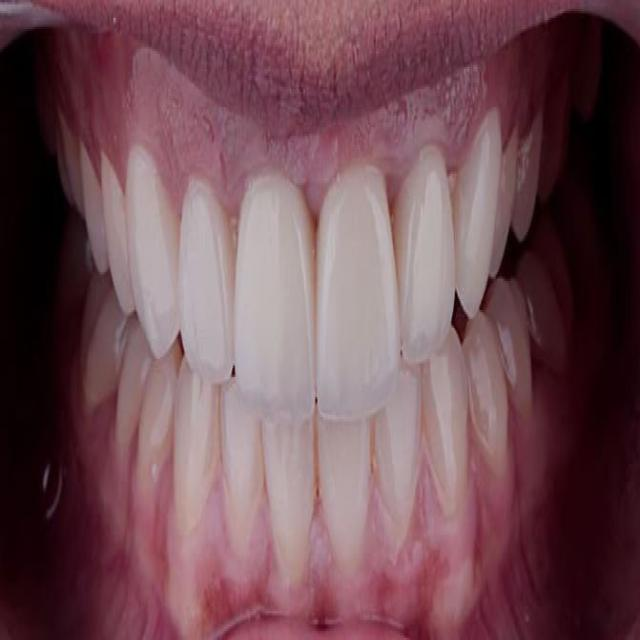1st Molar: (517, 219, 573, 366), (81, 274, 123, 410), (542, 67, 570, 195), (56, 109, 83, 205)
1st Premolar: (464, 317, 509, 468), (99, 161, 136, 317), (139, 348, 180, 479), (492, 134, 521, 281)
2nd Molar: (554, 176, 597, 255), (574, 18, 601, 113), (60, 210, 90, 290), (35, 71, 57, 149)
2nd Premolar: (485, 279, 534, 419), (114, 314, 147, 455), (515, 118, 544, 240), (79, 147, 107, 269)
Canine: (126, 147, 180, 359), (454, 109, 503, 319), (424, 327, 469, 524), (174, 366, 219, 537)
Central Incisor: (315, 165, 401, 421), (234, 172, 317, 419), (262, 416, 317, 580), (318, 419, 372, 578)
Lateral Incisor: (393, 145, 455, 366), (178, 178, 234, 384), (371, 372, 422, 542), (219, 386, 264, 557)
